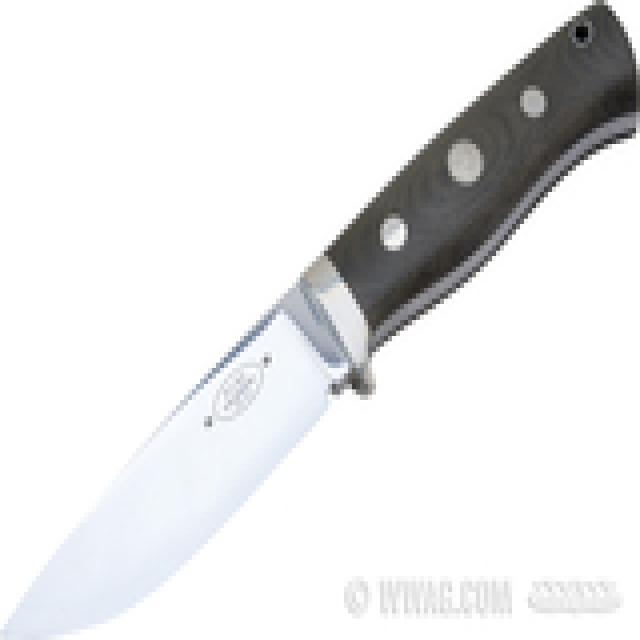Knife: (7, 0, 634, 640)
